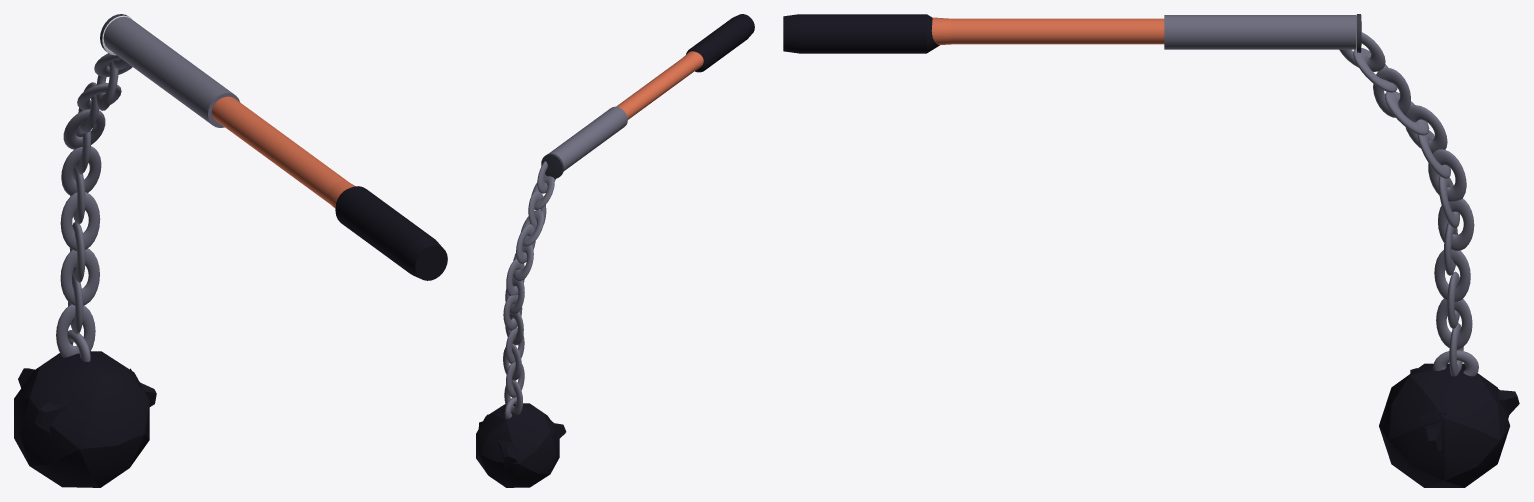
The model's file is Flail.fbx.
The picture shows the model from 3 angles, left to right: view 1: azimuth 30°, elevation 25°; view 2: azimuth 150°, elevation 25°; view 3: azimuth 270°, elevation 25°; orthographic projection. The views are drawn at different scales.
Visible parts, largest first — view 1: mergedBlocks; view 2: mergedBlocks; view 3: mergedBlocks.
Part boxes in pixels (x1=…): mergedBlocks: x1=14, y1=14, x2=447, y2=487; mergedBlocks: x1=476, y1=14, x2=754, y2=487; mergedBlocks: x1=783, y1=14, x2=1519, y2=487.
Size of the model in its own units: 2.63 by 9.77 by 14.
1 material, 1 textured.
